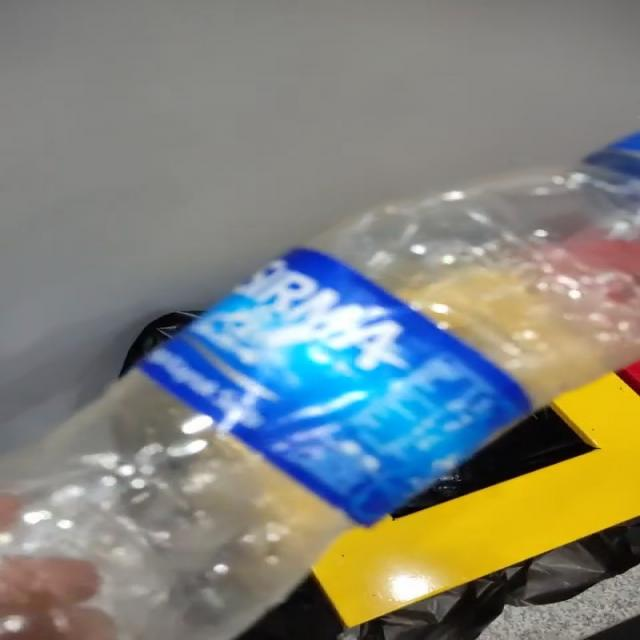plastic: (1, 139, 640, 640)
